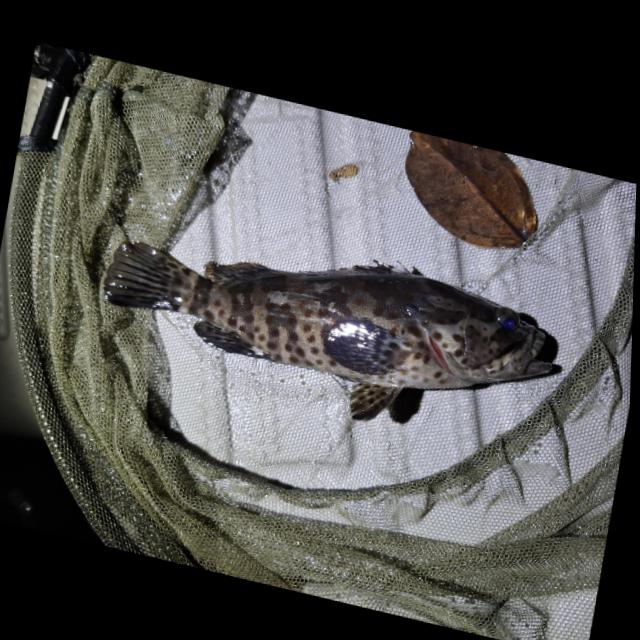Groupers: (89, 201, 565, 466)
